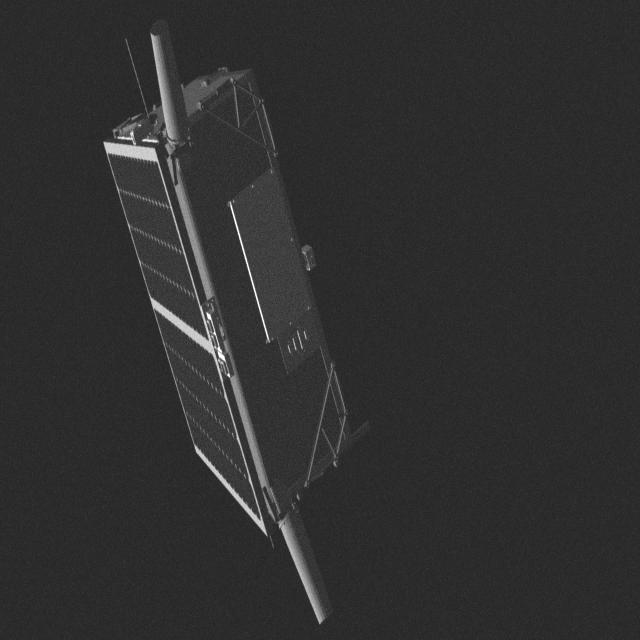medium_debris: (98, 22, 360, 630)
